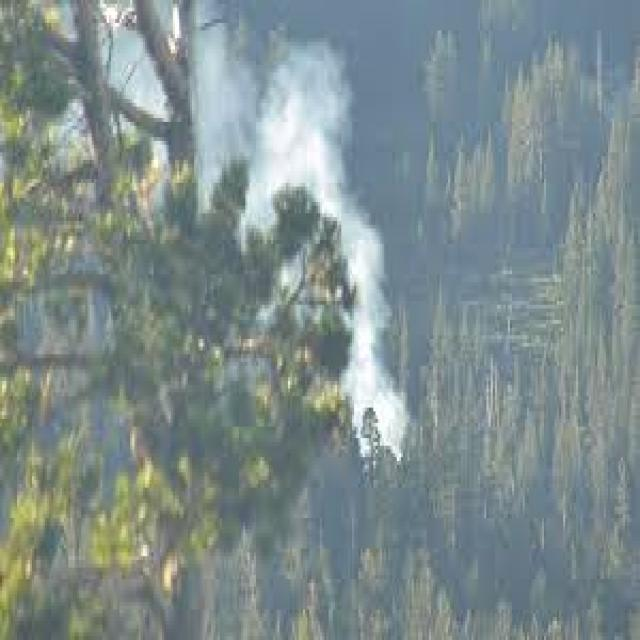Smoke: (198, 6, 368, 221), (338, 224, 414, 464)
